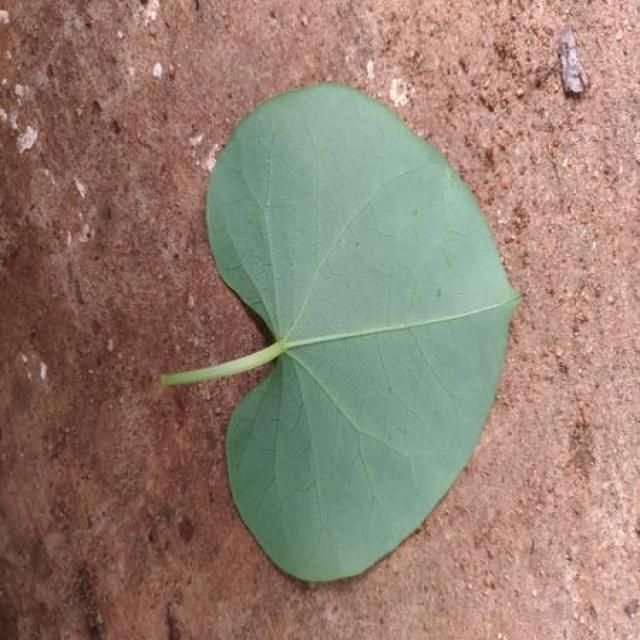Amruthaballi: (162, 84, 518, 581)
